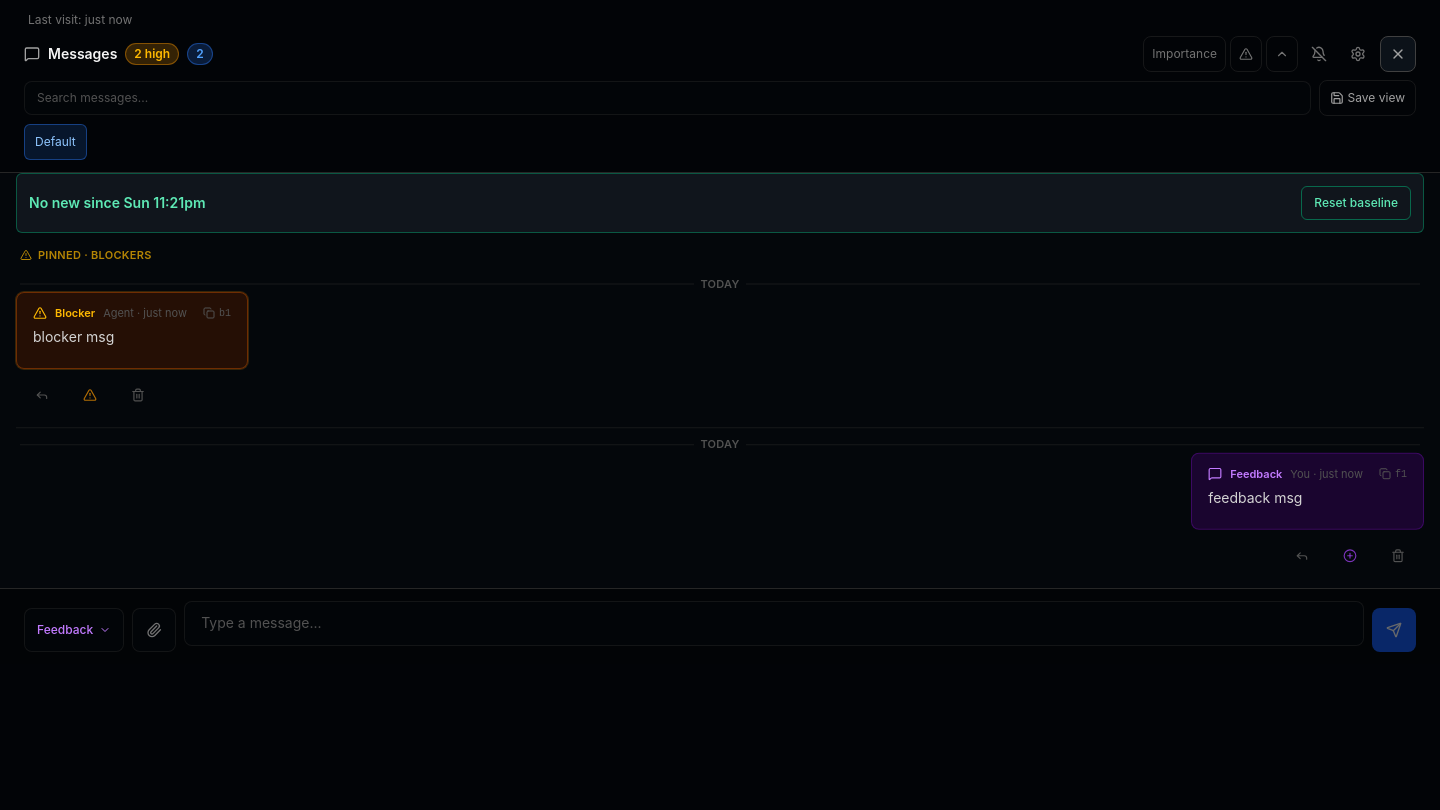
MessagesPanel critical-only severity filter › critical-only filter hides FEEDBACK when active
Toggle critical-only filter
Click the button named "Critical only (BLOCKER, BUG, critical NOTEs)". click: (1246,54)
box: [1230, 36, 1262, 72]
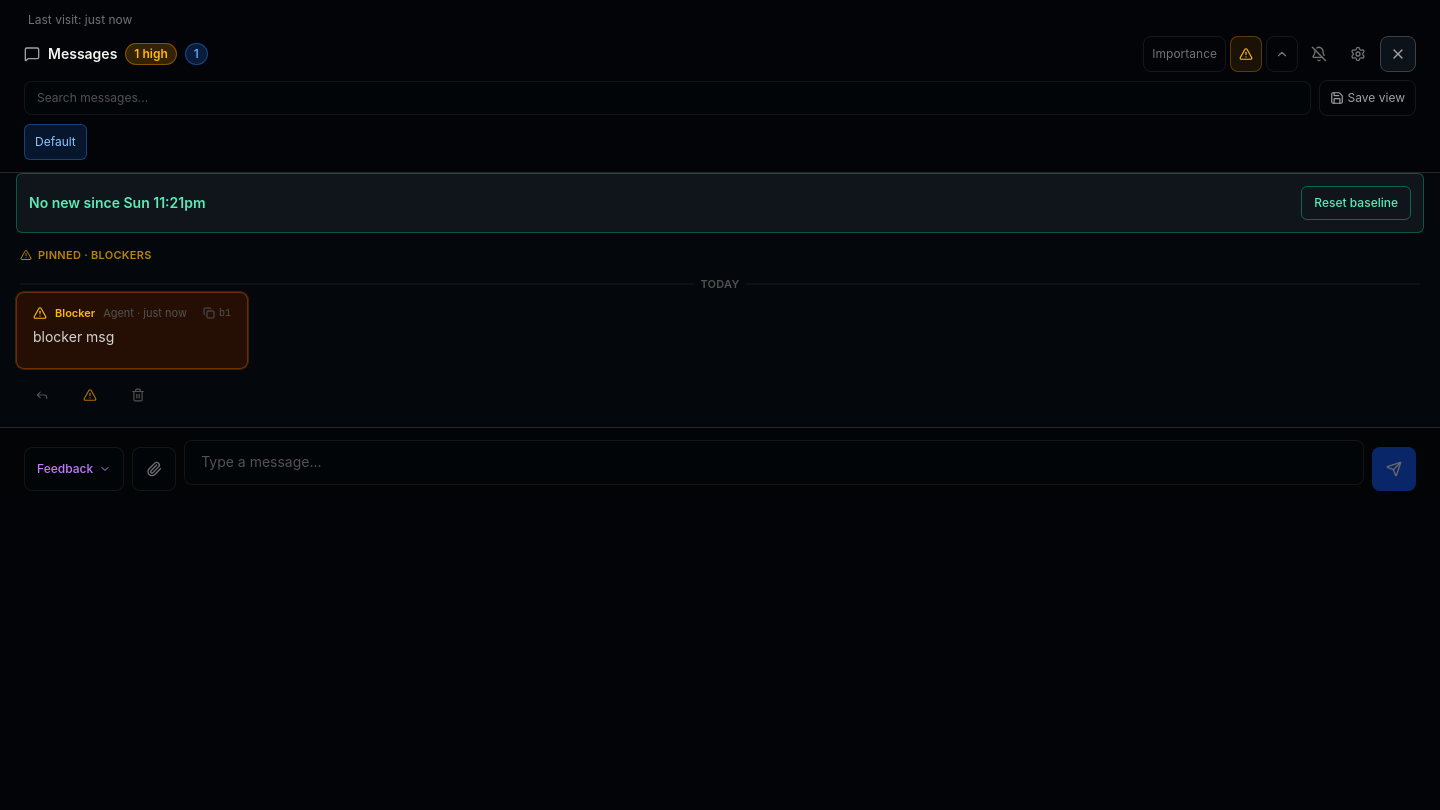
expect the text "blocker msg" is shown: met, box [33, 328, 114, 344]
expect the text "feedback msg" is gone: met
